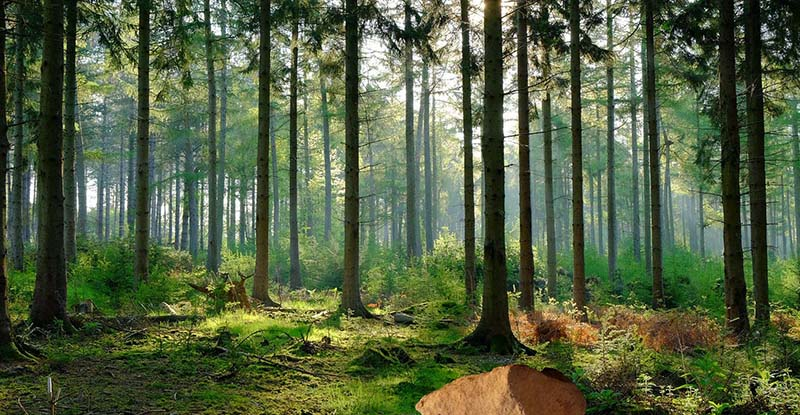Rocks: (403, 361, 590, 415)
